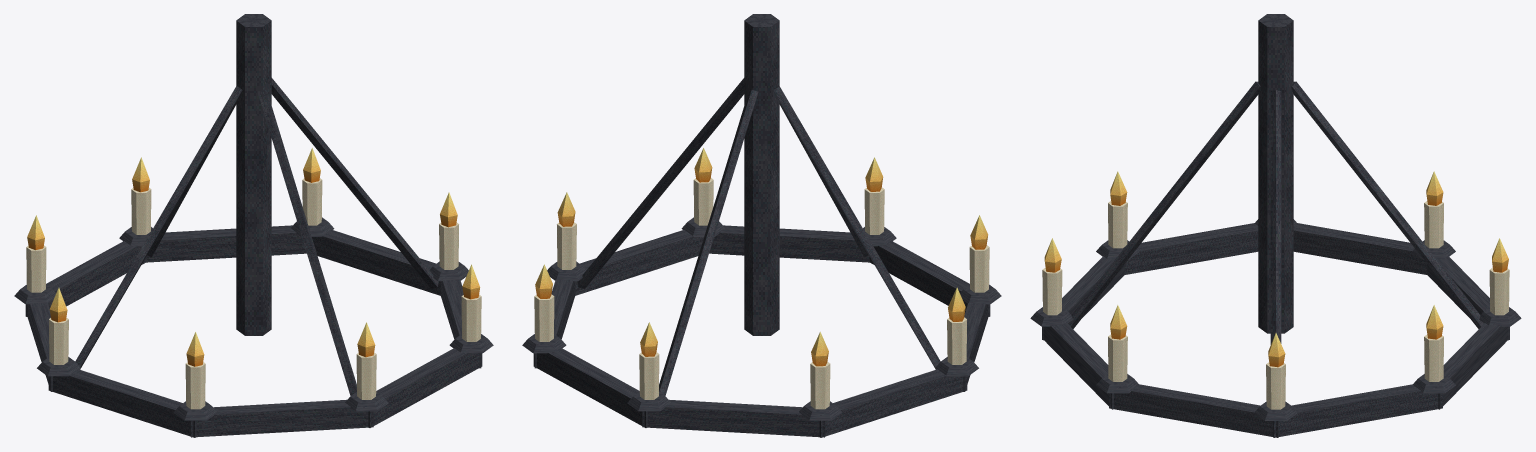
Rendered from lustre_de_ferro.glb.
3 views of the same model, side by side, from view 1: azimuth 30°, elevation 25°; view 2: azimuth 150°, elevation 25°; view 3: azimuth 270°, elevation 25° (orthographic).
Visible parts, largest first — view 1: lustre_de_ferro; view 2: lustre_de_ferro; view 3: lustre_de_ferro.
Part boxes in pixels (x1,y1,x2,y2): lustre_de_ferro: [14, 14, 493, 437]; lustre_de_ferro: [522, 14, 1001, 437]; lustre_de_ferro: [1030, 14, 1521, 437].
Size of the model in its own units: 1.65 by 1.19 by 1.67.
Materials: 1 (1 with a texture image).
